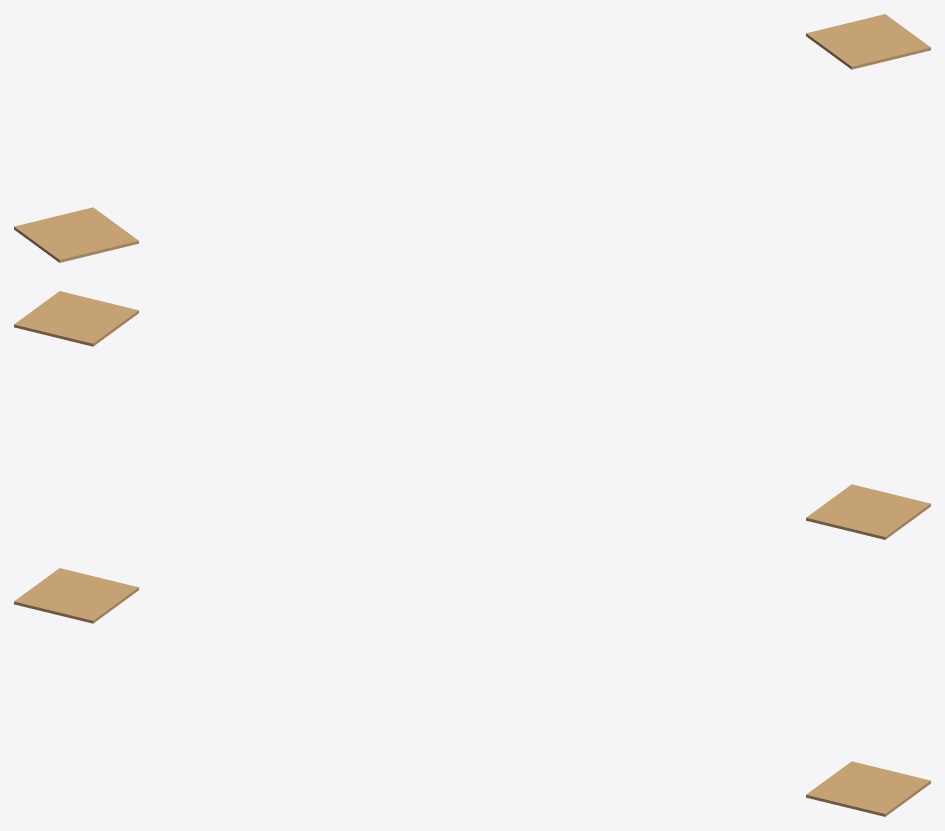
The model's file is board.glb.
3 renders of one model, top to bottom at view 1: azimuth 30°, elevation 25°; view 2: azimuth 150°, elevation 25°; view 3: azimuth 330°, elevation 25°, orthographic.
Visible parts, largest first — view 1: Substrate_Layer_0_Z0, Substrate_Layer_1_Z0; view 2: Substrate_Layer_0_Z0, Substrate_Layer_1_Z0; view 3: Substrate_Layer_0_Z0, Substrate_Layer_1_Z0.
Boxes of the visible parts, <box> form: Substrate_Layer_0_Z0: <box>14,207,138,262</box>; Substrate_Layer_1_Z0: <box>806,14,930,69</box>; Substrate_Layer_0_Z0: <box>806,484,930,539</box>; Substrate_Layer_1_Z0: <box>14,291,138,346</box>; Substrate_Layer_0_Z0: <box>14,568,138,623</box>; Substrate_Layer_1_Z0: <box>806,761,930,816</box>.
Bounding box in the file's own units: 0.011 × 3.5e-05 × 0.001.
